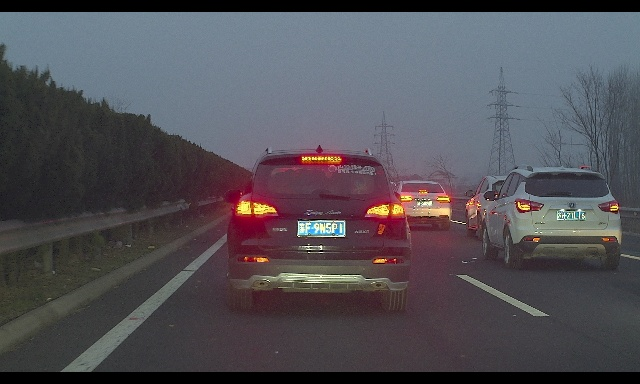car: (224, 145, 412, 312), (483, 164, 622, 270), (465, 176, 545, 241), (392, 180, 452, 230)
